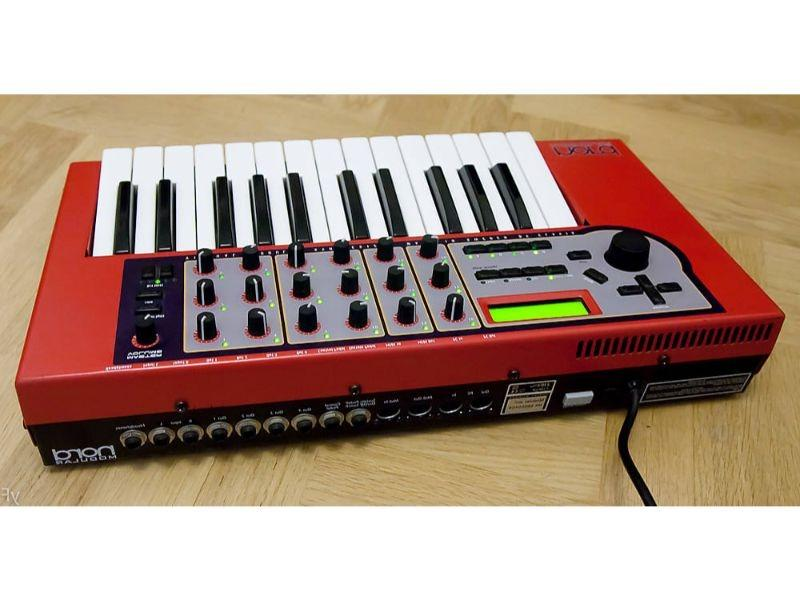synthesizer: (31, 131, 785, 479)
